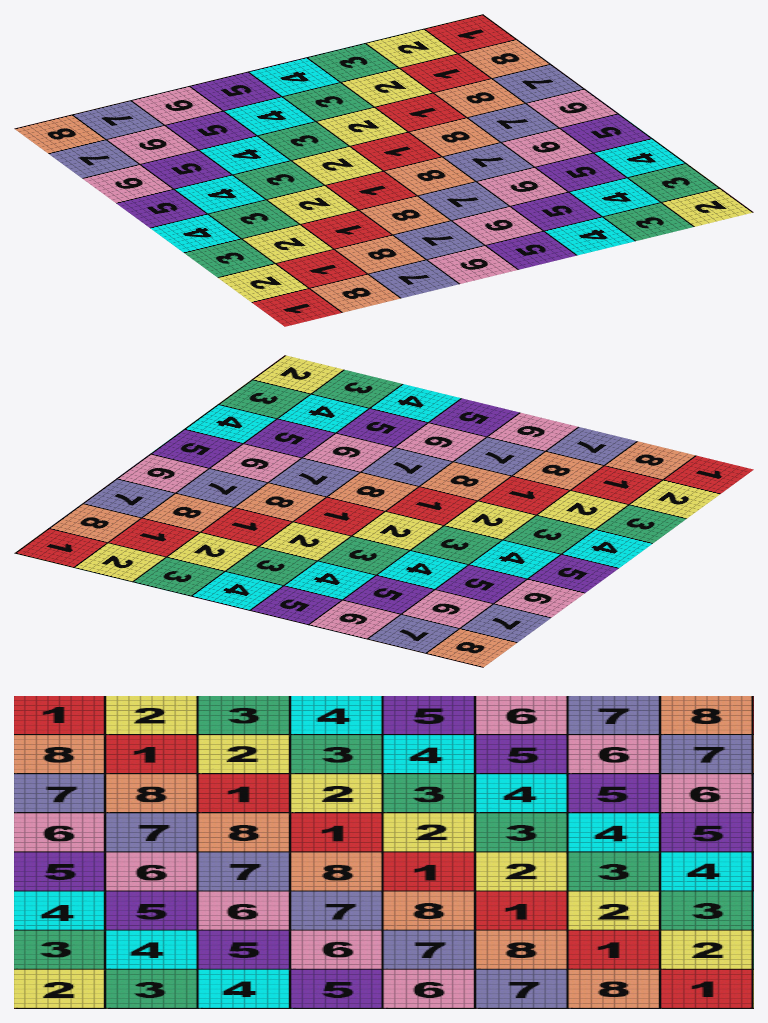
The model's file is watertess_ring4_corner.fbx.
3 renders of one model, top to bottom at view 1: azimuth 30°, elevation 25°; view 2: azimuth 150°, elevation 25°; view 3: azimuth 270°, elevation 25°, orthographic. The views are drawn at different scales.
Visible parts, largest first — view 1: watertess_ring4_corner; view 2: watertess_ring4_corner; view 3: watertess_ring4_corner.
Part boxes in pixels (bbox=[...]): watertess_ring4_corner: bbox=[14, 14, 753, 326]; watertess_ring4_corner: bbox=[14, 355, 753, 667]; watertess_ring4_corner: bbox=[14, 696, 753, 1008].
Bounding box in the file's own units: 128 × 2.09e-05 × 128.
